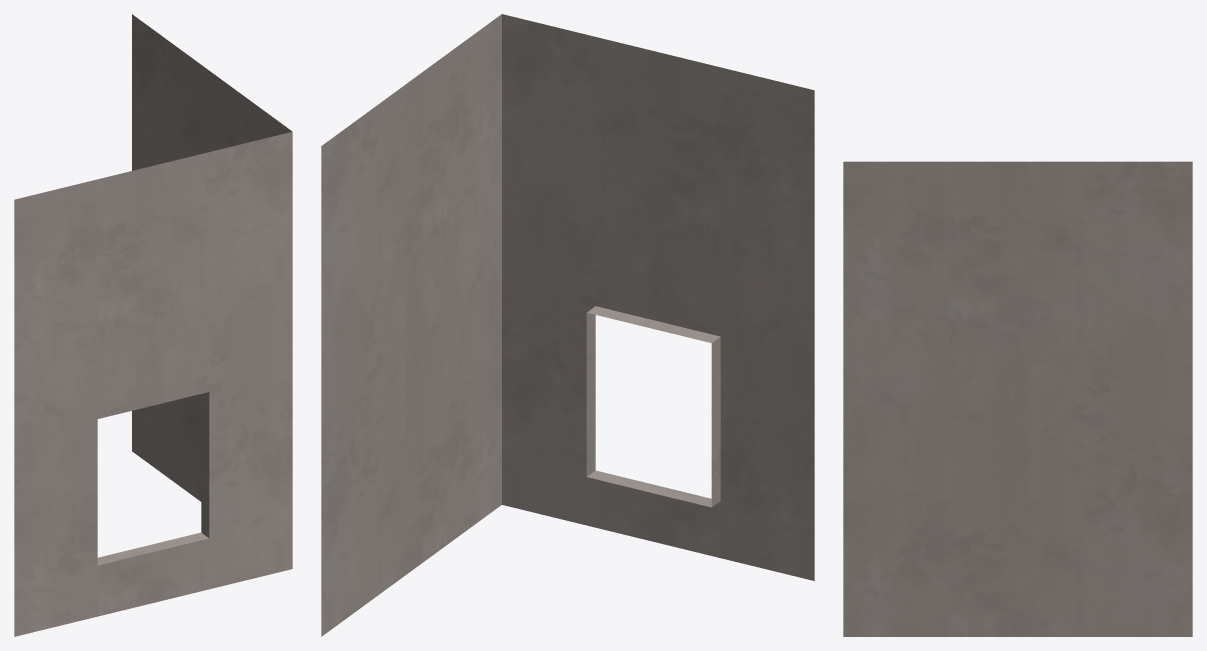
File: SM_ENV_K1_WALL_WINDOW_CORNER_2X3_03.fbx
3 renders of one model, left to right at view 1: azimuth 30°, elevation 25°; view 2: azimuth 150°, elevation 25°; view 3: azimuth 270°, elevation 25°, orthographic. The views are drawn at different scales.
Visible parts, largest first — view 1: SM_ENV_K1_WALL_WINDOW_CORNER_2X3_03; view 2: SM_ENV_K1_WALL_WINDOW_CORNER_2X3_03; view 3: SM_ENV_K1_WALL_WINDOW_CORNER_2X3_03.
Part boxes in pixels (left/top/right/bottom): SM_ENV_K1_WALL_WINDOW_CORNER_2X3_03: left=14, top=14, right=292, bottom=636; SM_ENV_K1_WALL_WINDOW_CORNER_2X3_03: left=321, top=14, right=814, bottom=636; SM_ENV_K1_WALL_WINDOW_CORNER_2X3_03: left=843, top=161, right=1192, bottom=636.
Size of the model in its own units: 2 by 3 by 2.
